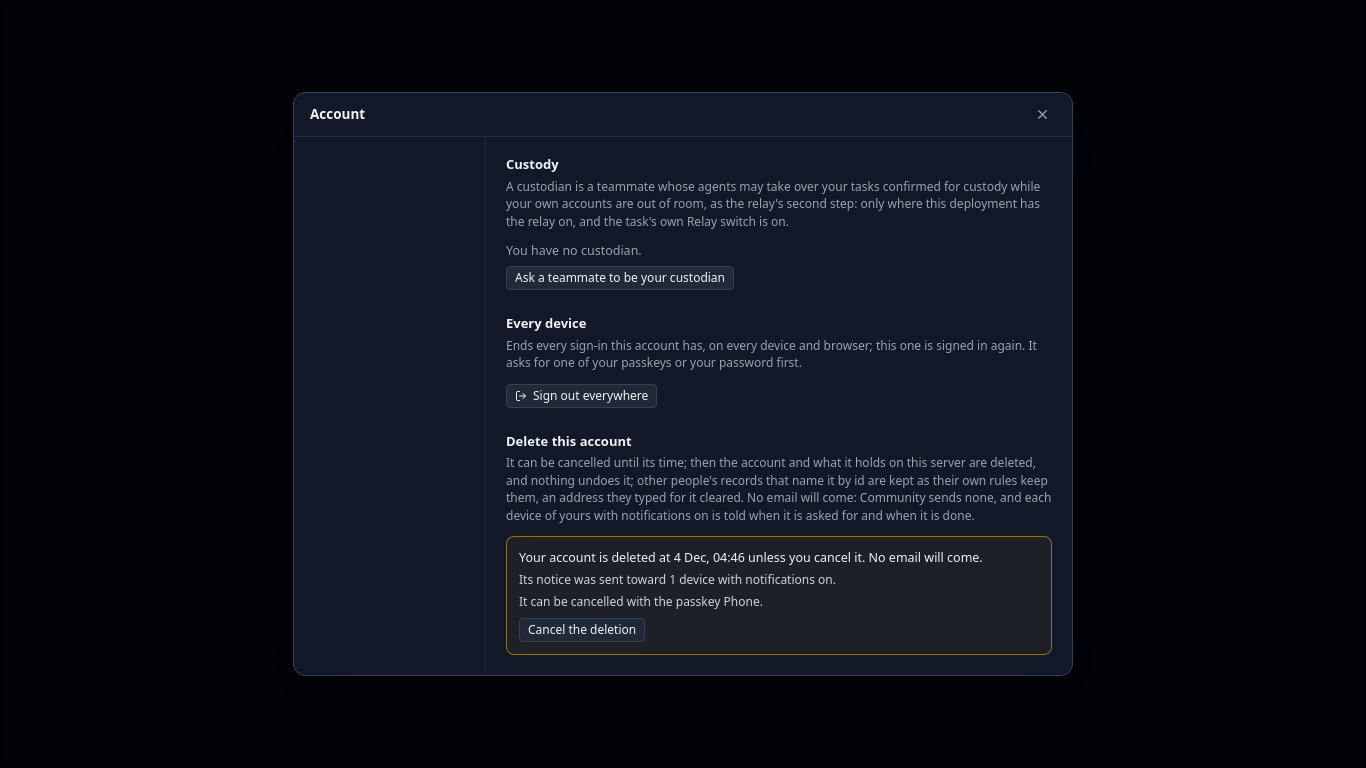
Test: deleting the account in the phone app, where a browser must confirm it › names it so for cancelling a deletion that only a passkey may cancel
The image size is (1366, 768).
(page scrolled)
Click the button "Cancel the deletion".
click(582, 630)  # box [519,618,645,642]
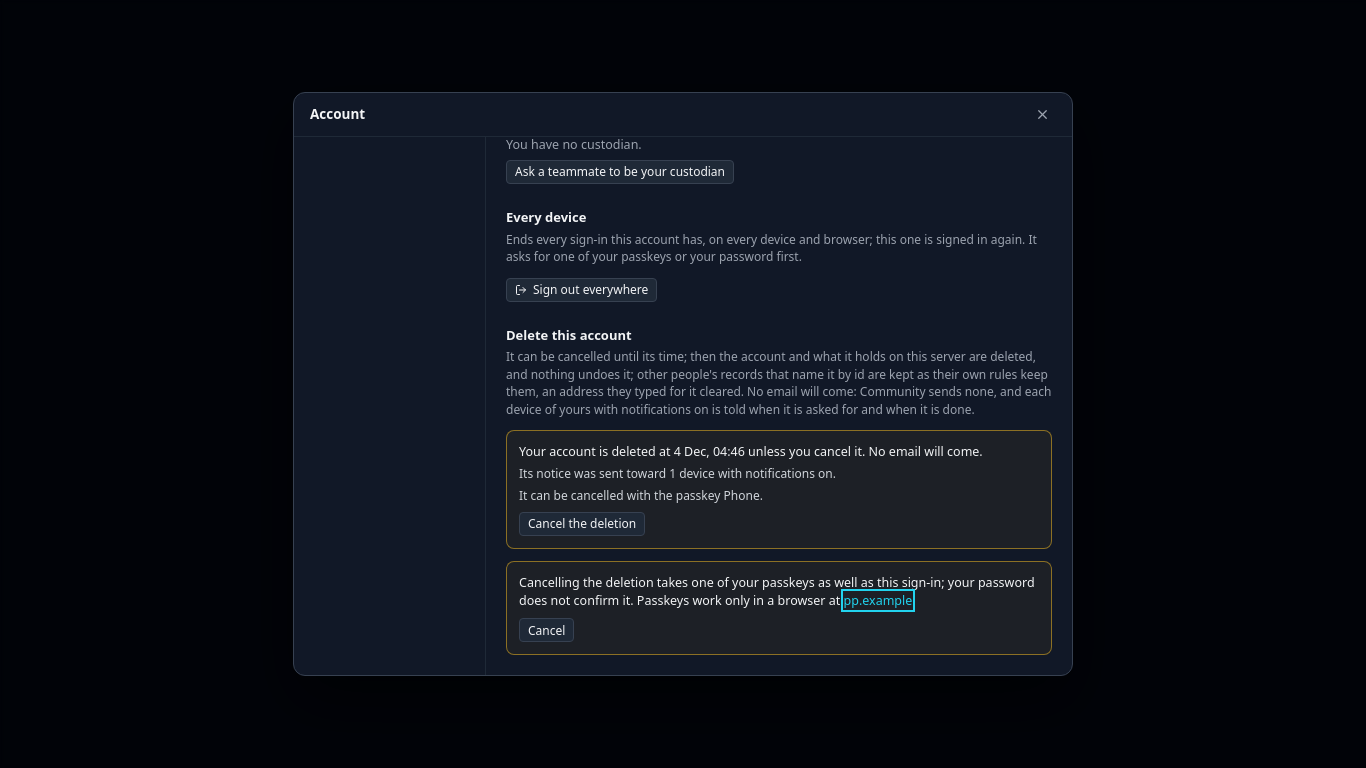
Check: the element "Cancelling the deletion" shows "Passkeys work only in a browser at pp.example.", box [506,561,1052,655]
